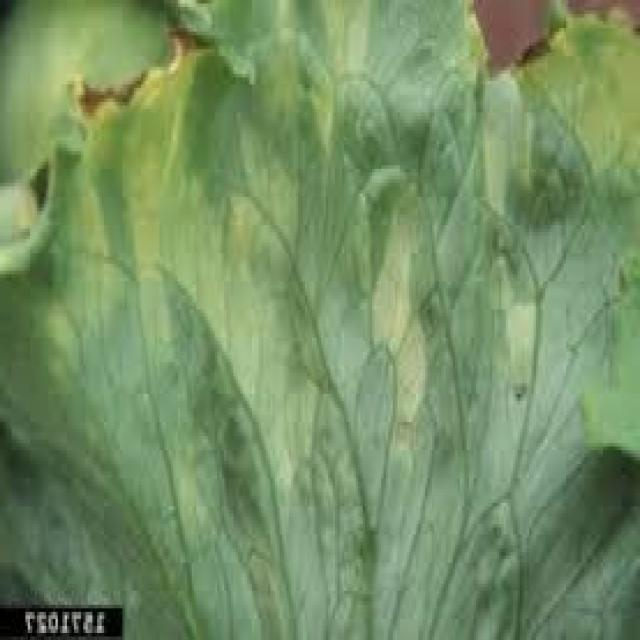Downy_Mildew: (142, 79, 562, 599)
